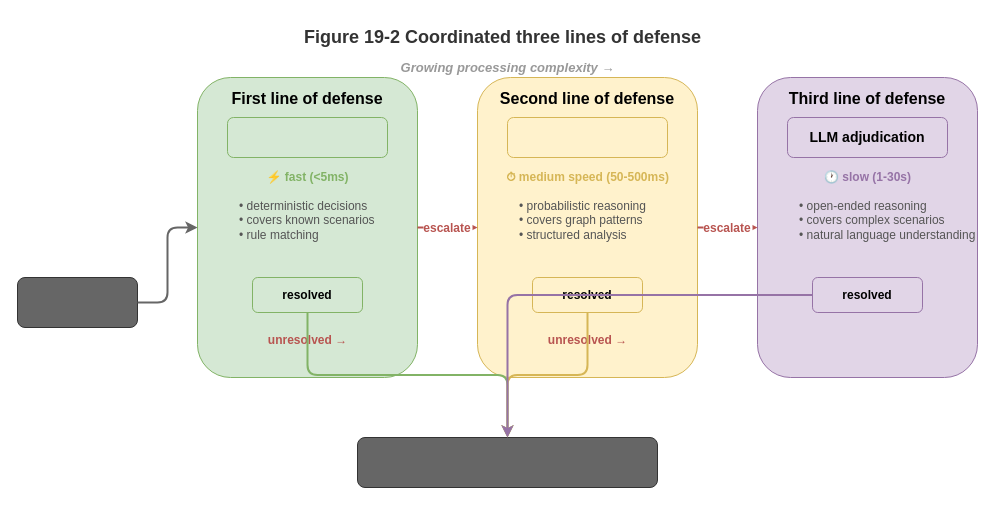
Some shapes in this 995 by 505 pixel diagram are drawn without their labels. The centre of each missing label's shape, as x and y in pixels:
"Event input" belongs at (x=77, y=302).
"Final decision output" belongs at (x=507, y=462).
"GNN inference" belongs at (x=587, y=137).
"rule checking" belongs at (x=307, y=137).
